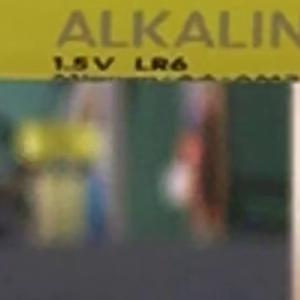ALK: (44, 3, 152, 81)
